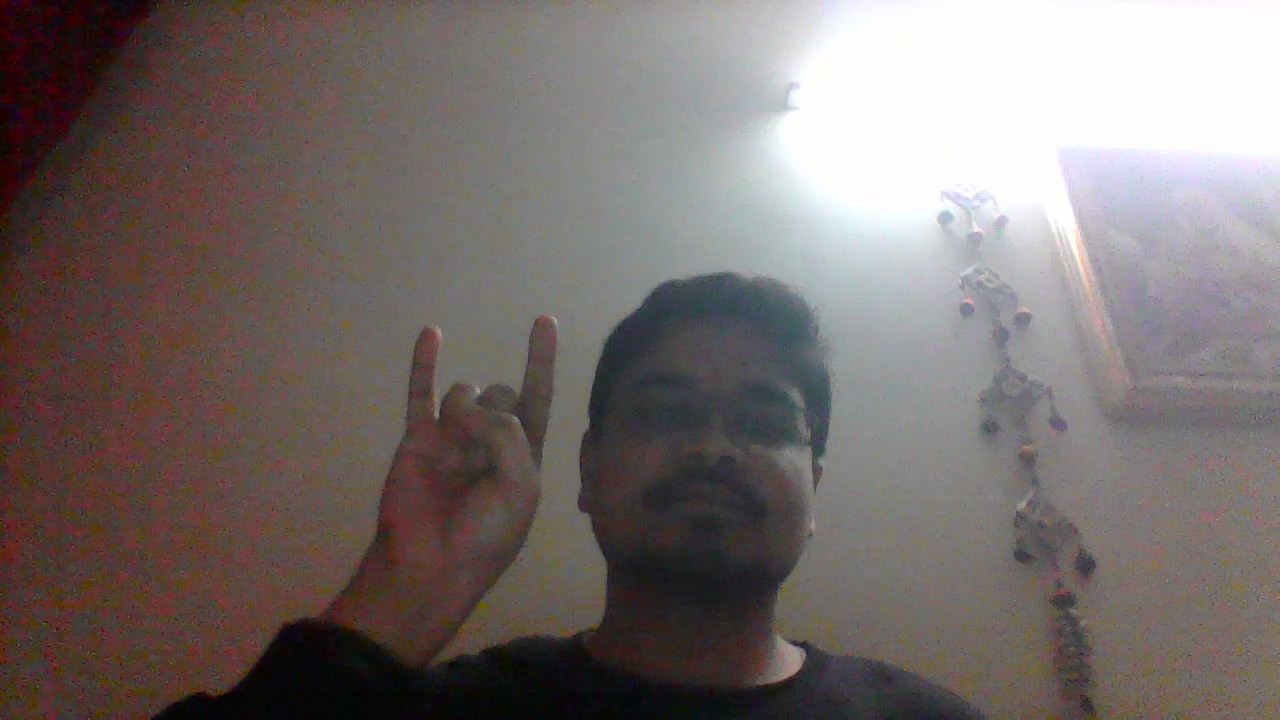ILoveYou: (367, 307, 570, 616)
